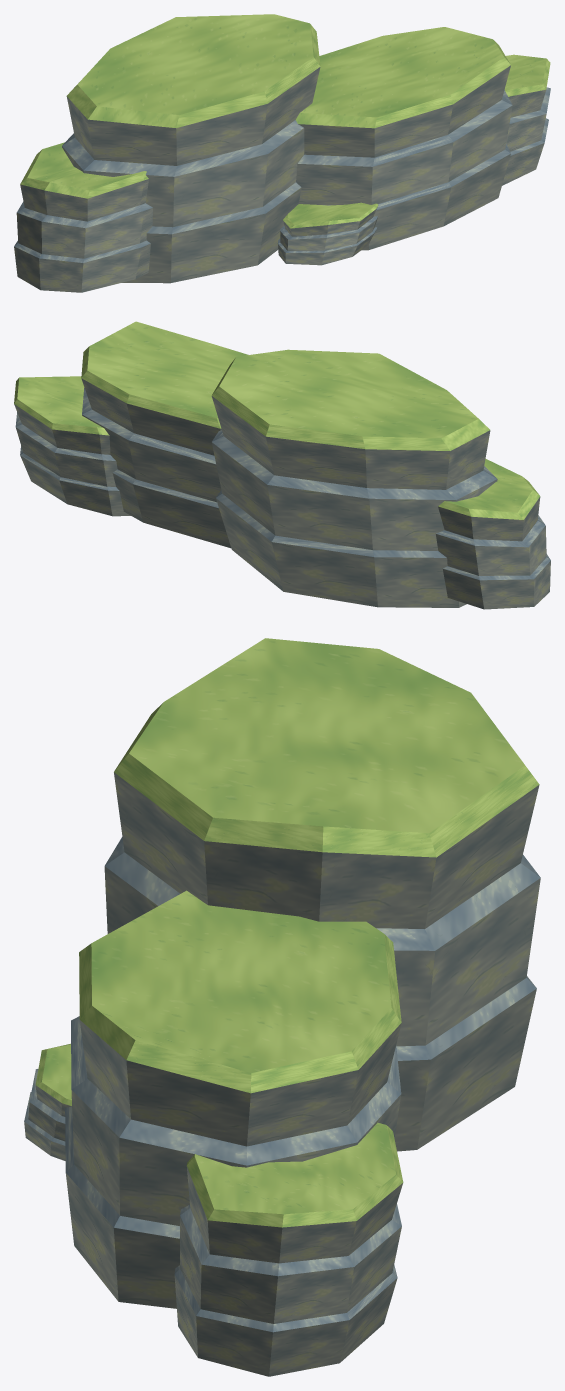
The model's file is LimestoneBluff.fbx.
3 renders of one model, top to bottom at view 1: azimuth 30°, elevation 25°; view 2: azimuth 150°, elevation 25°; view 3: azimuth 270°, elevation 25°, orthographic. The views are drawn at different scales.
Visible parts, largest first — view 1: LimestoneBluff; view 2: LimestoneBluff; view 3: LimestoneBluff.
Boxes of the visible parts, x1,y1,x2,y2 form: LimestoneBluff: (14, 14, 550, 292); LimestoneBluff: (14, 321, 550, 609); LimestoneBluff: (24, 638, 540, 1376).
Size of the model in its own units: 1936 by 657 by 822.
1 material, 1 textured.
